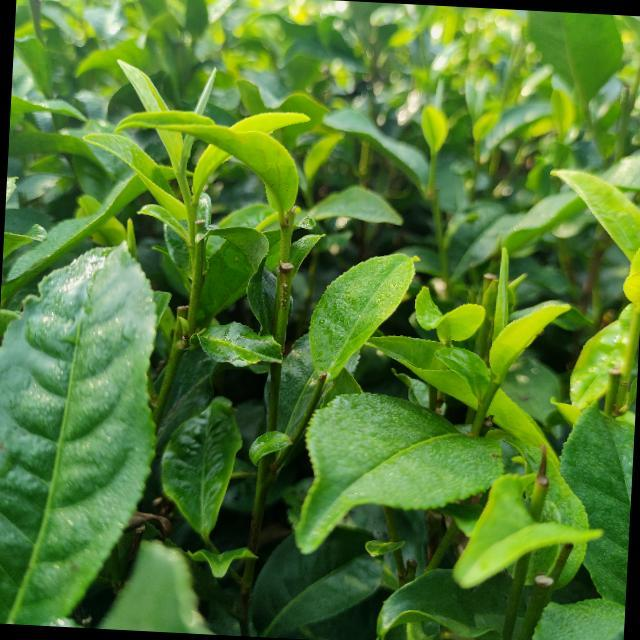Stem: (481, 382, 500, 403), (186, 203, 197, 230), (281, 233, 291, 256)
